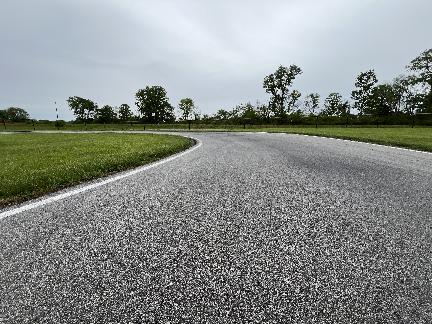Grass: (0, 133, 191, 205), (208, 128, 431, 151), (246, 128, 431, 151)
Lane: (0, 133, 431, 323)
